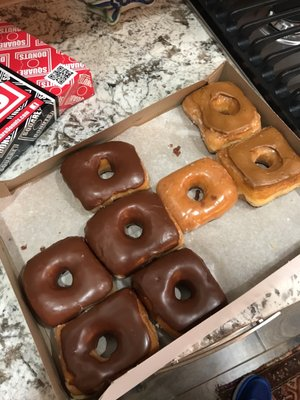salad: (54, 288, 160, 399), (83, 189, 180, 277), (21, 236, 114, 327), (131, 247, 227, 334), (221, 126, 300, 208), (156, 157, 239, 233), (60, 141, 149, 211), (182, 81, 262, 153)
